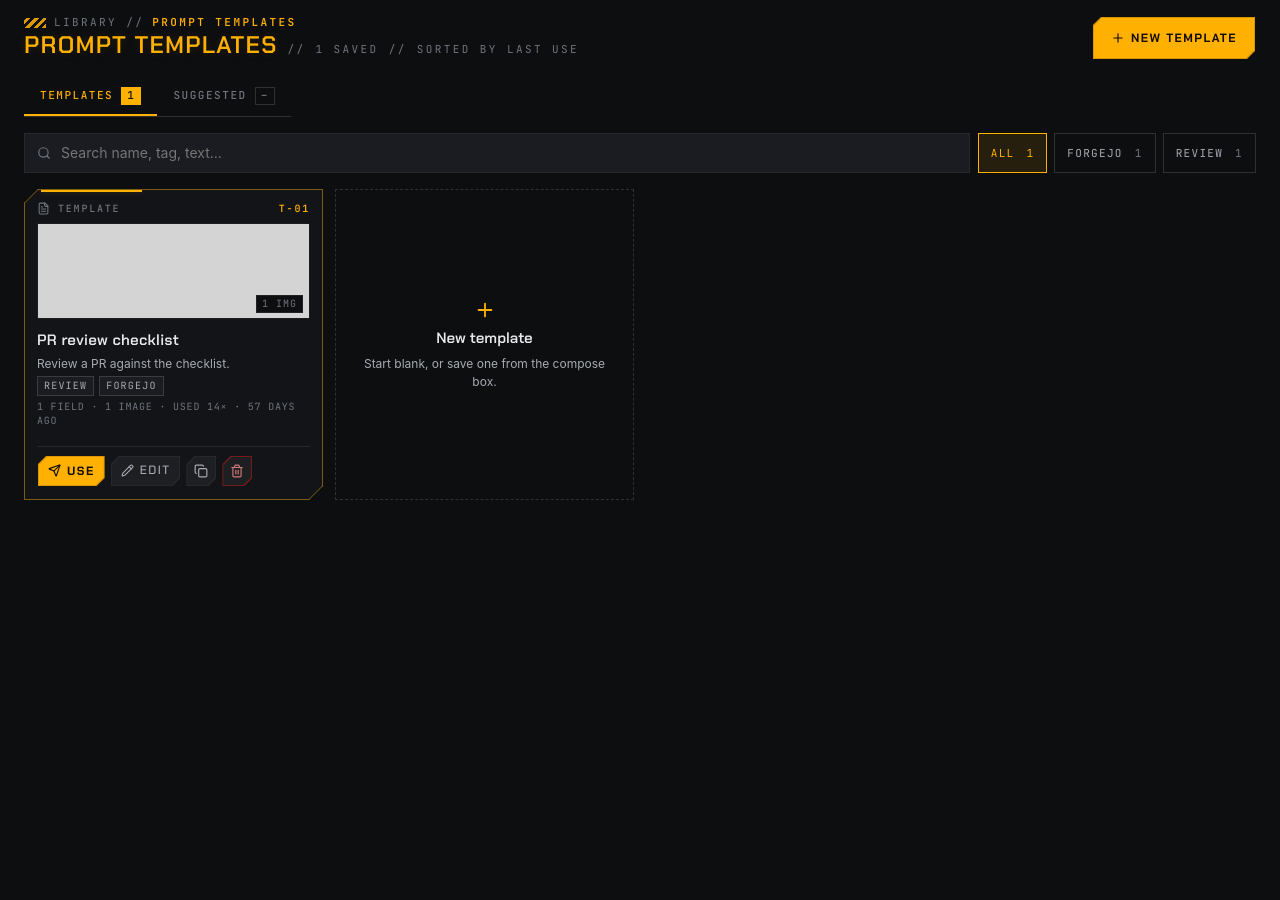
Test case: delete asks first, sends the card's updated_at as the fence, then reloads
This screenshot has width=1280, height=900.
Click the button named "delete pr review checklist" at (237, 471), box [221,455,253,487]
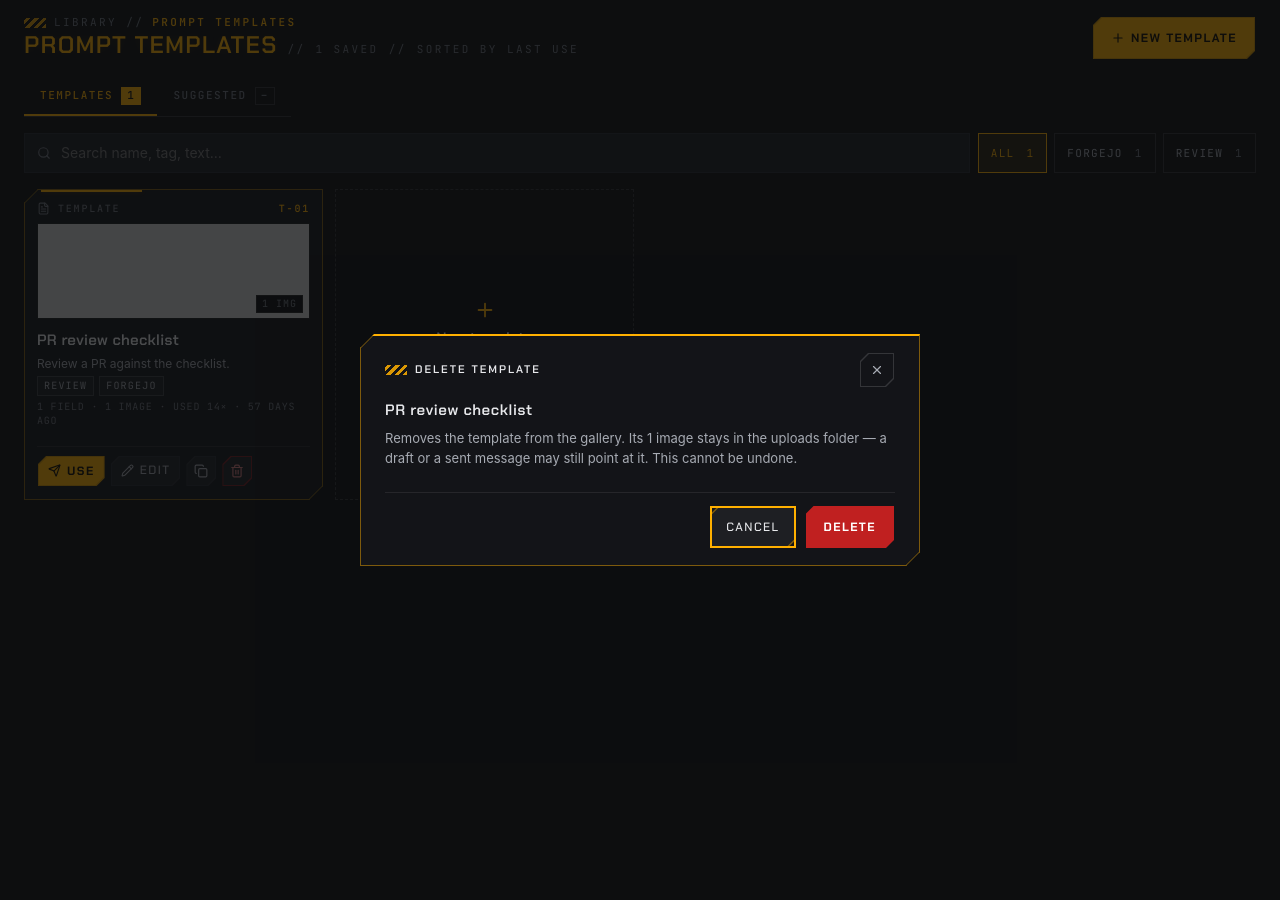
Expected: the text "image stays in the uploads folder" is shown, [385,430,887,466]
Click the button "Delete" at (850, 527), box [804,505,895,549]
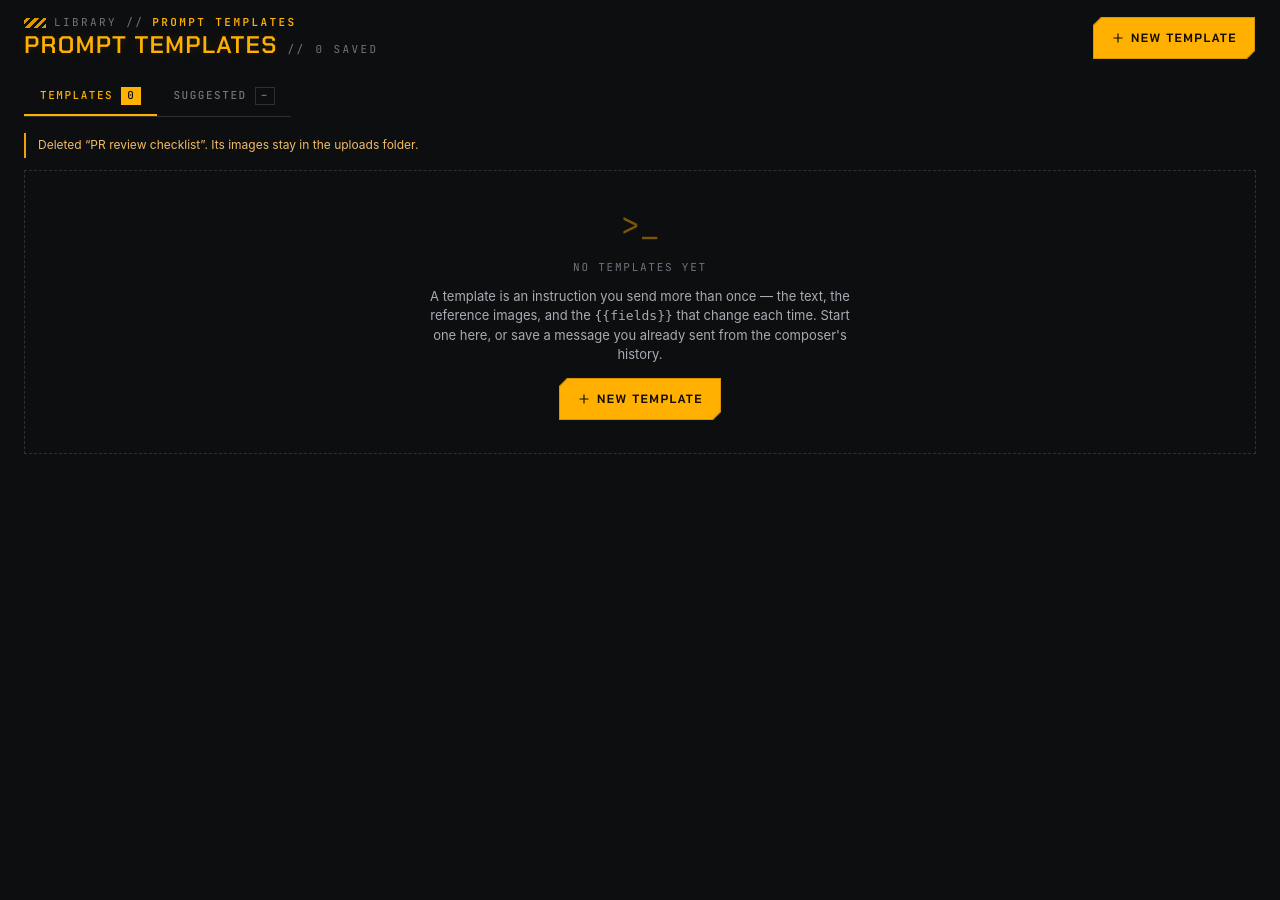
Expected: the text "No templates yet" is shown, [573,260,707,275]
Expected: the text "Deleted “PR review checklist”" is shown, [38,137,418,152]
